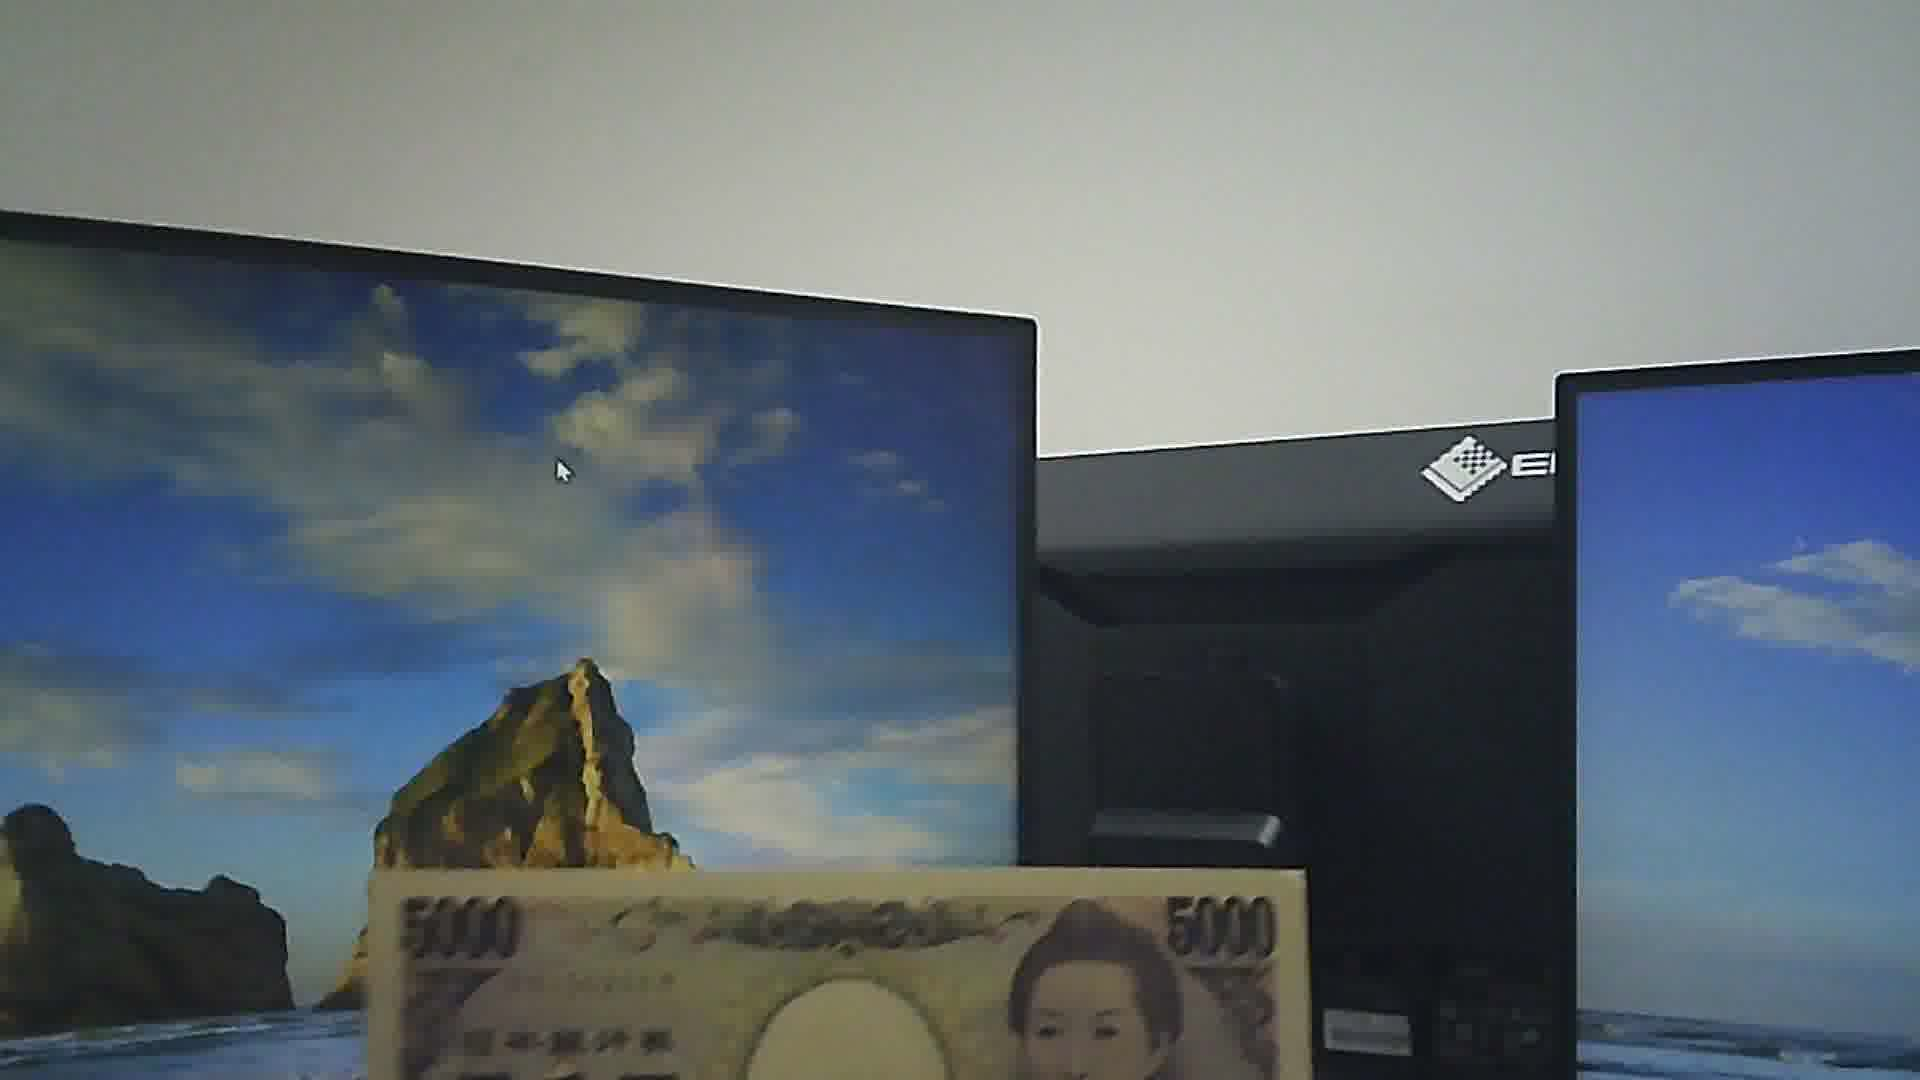5,000 Yen: (349, 865, 1317, 1077)
